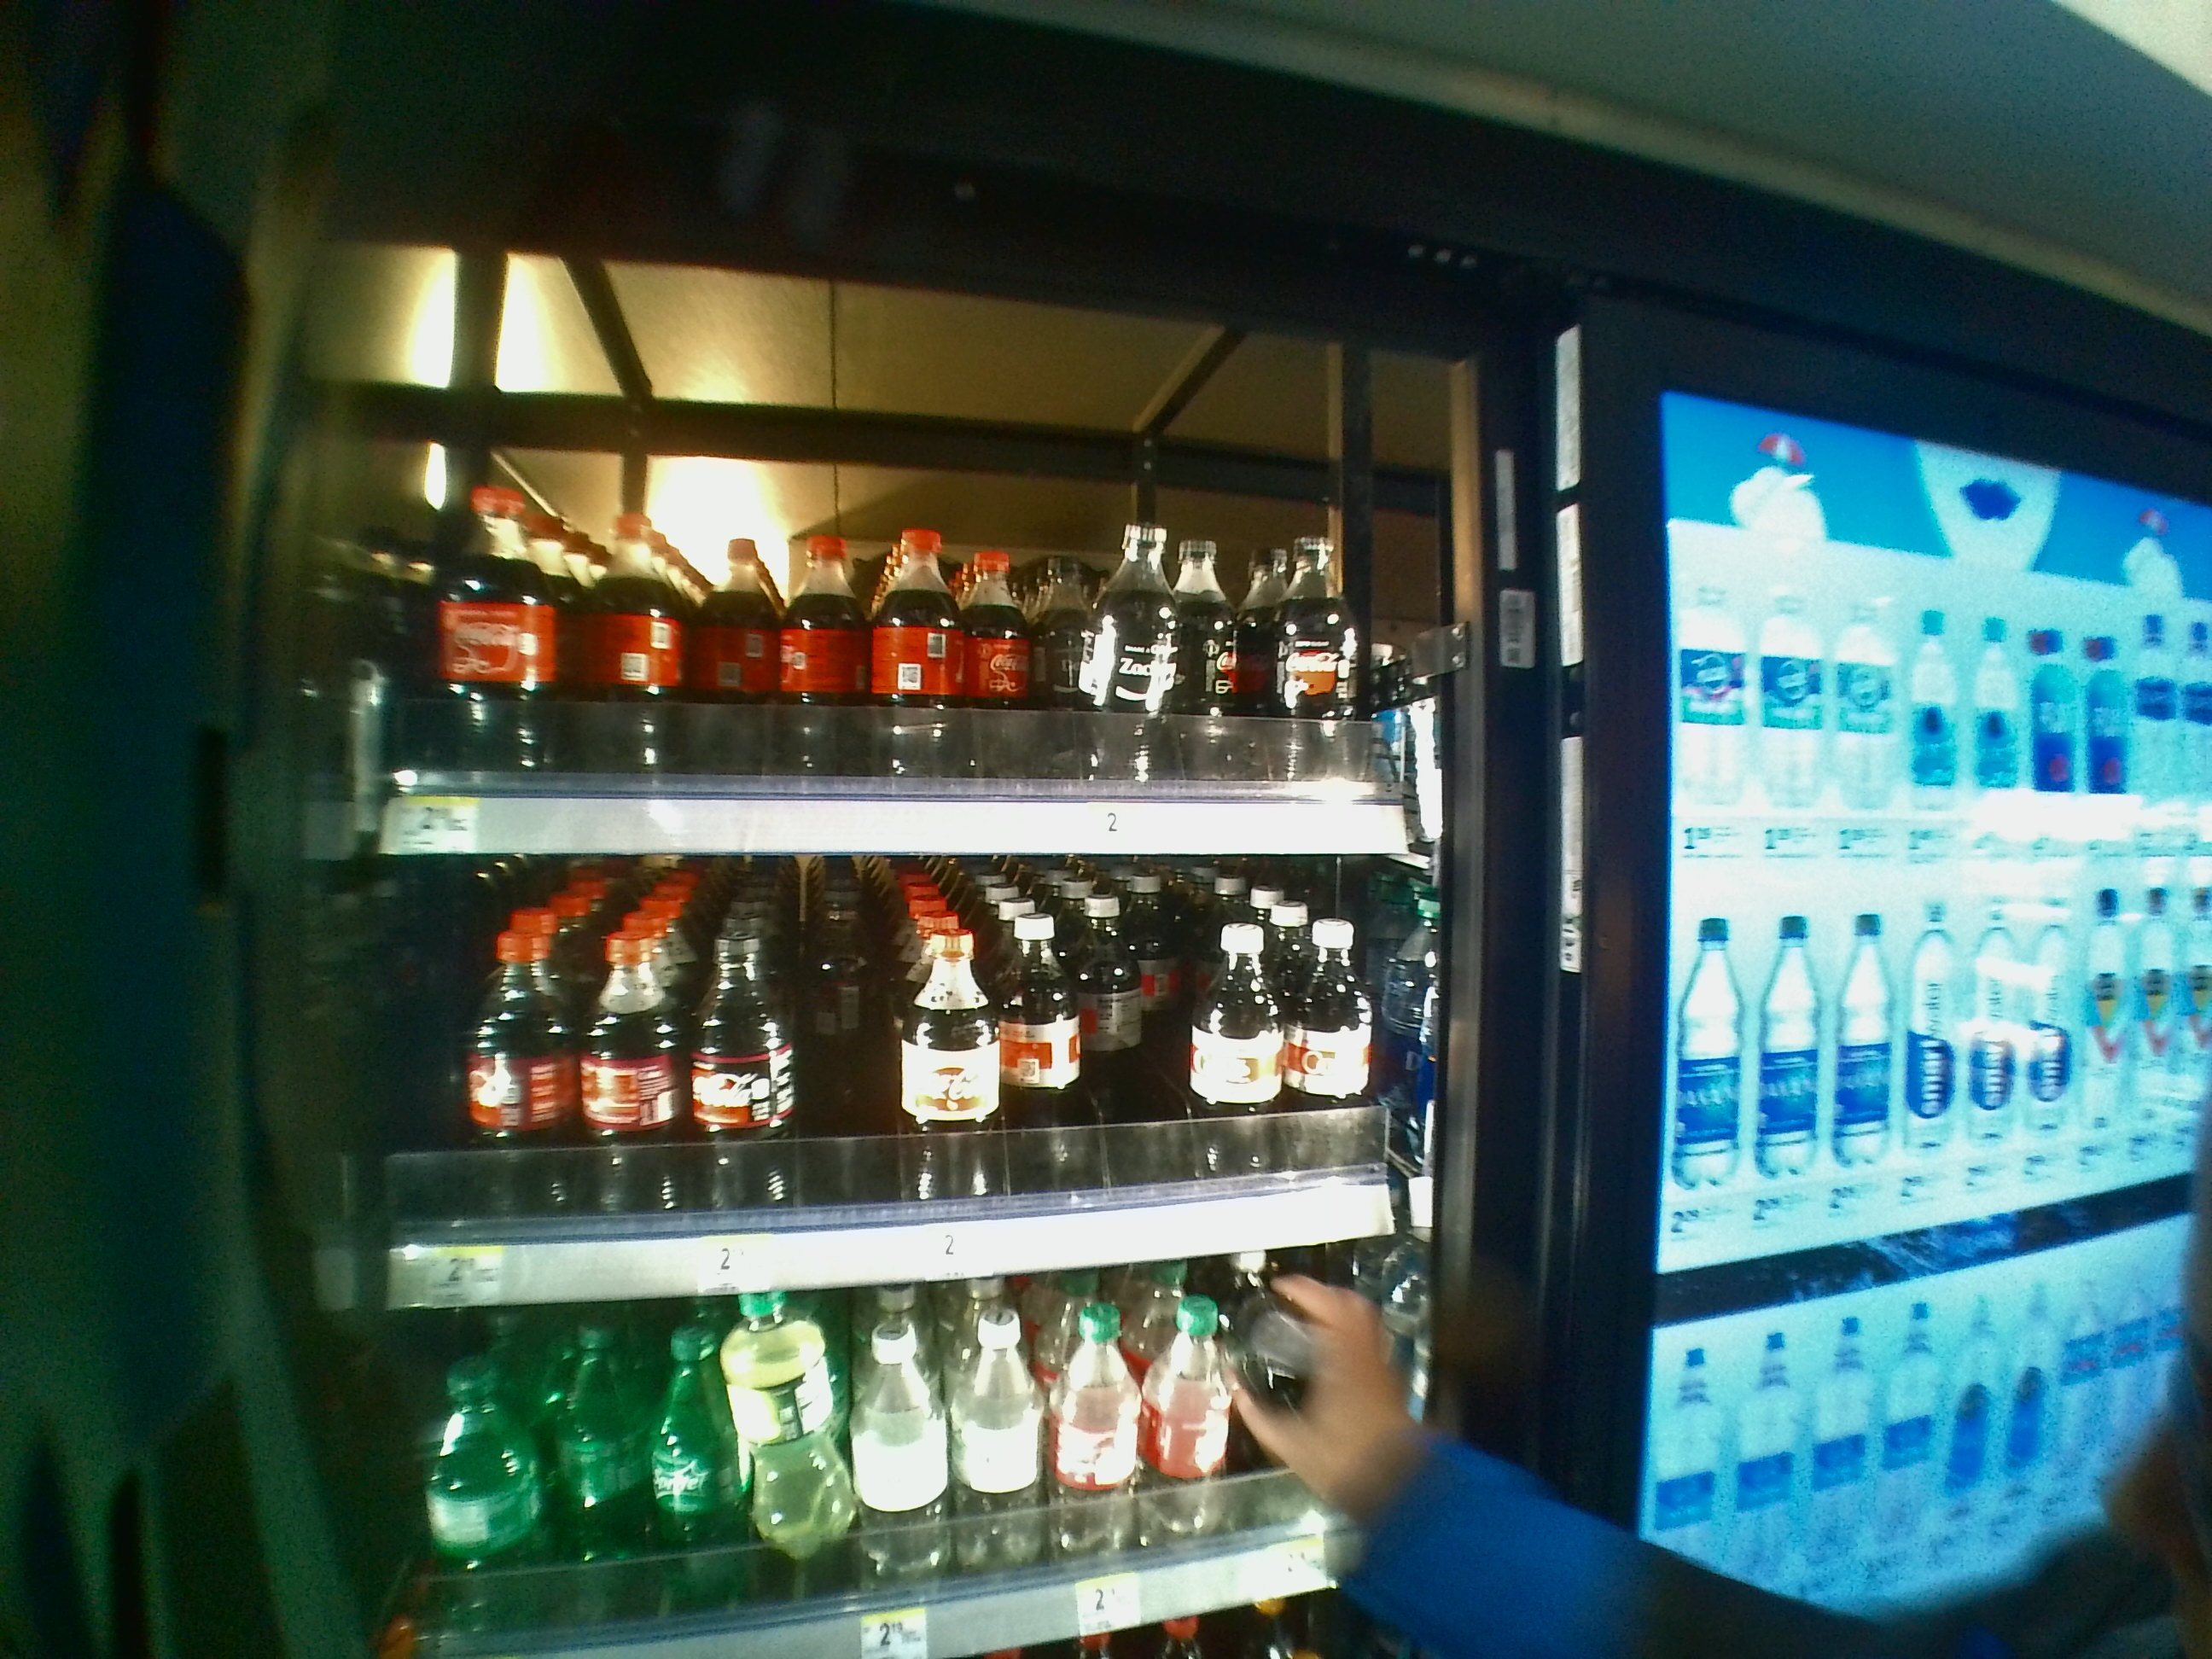shelf: (329, 225, 1468, 859), (324, 857, 1468, 1314)
